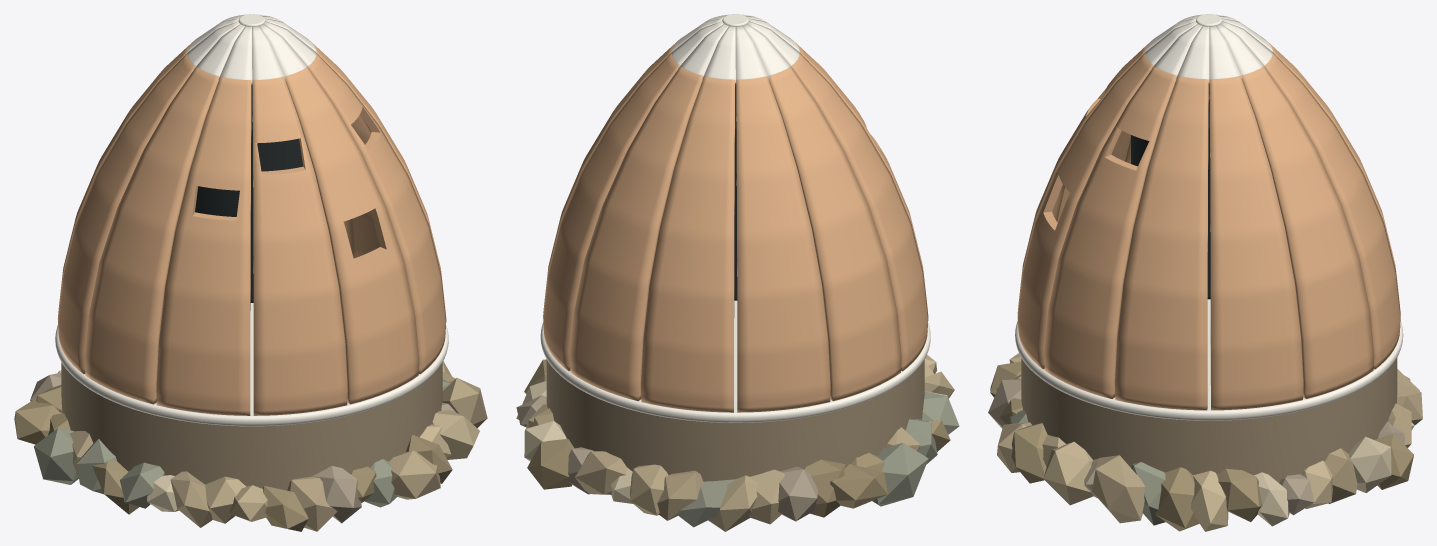
File: dome_building.glb
The picture shows the model from 3 angles, left to right: view 1: azimuth 30°, elevation 25°; view 2: azimuth 150°, elevation 25°; view 3: azimuth 270°, elevation 25°; orthographic projection.
Visible parts, largest first — view 1: Curved shell panel 07, Curved shell panel 08, Cylindrical stone plinth, Curved shell panel 06, Curved shell panel 09, Curved shell panel 05, Curved shell panel 10, White circular cornice, Shadowed inner structure, Foundation boulder 34, Foundation boulder 20, Foundation boulder 31 (+24 smaller); view 2: Curved shell panel 04, Curved shell panel 03, Cylindrical stone plinth, Curved shell panel 05, Curved shell panel 02, Curved shell panel 06, Curved shell panel 01, White circular cornice, Foundation boulder 20, Foundation boulder 18, Foundation boulder 07, Foundation boulder 16 (+22 smaller); view 3: Curved shell panel 00, Curved shell panel 11, Cylindrical stone plinth, Curved shell panel 01, Curved shell panel 10, Curved shell panel 02, Curved shell panel 09, White circular cornice, Foundation boulder 39, Foundation boulder 37, Foundation boulder 41, Foundation boulder 00 (+24 smaller).
Boxes of the visible parts, box(x1,y1,x2,y2) form: Curved shell panel 07: box(156, 76, 251, 415); Curved shell panel 08: box(252, 76, 347, 415); Cylindrical stone plinth: box(61, 362, 442, 490); Curved shell panel 06: box(84, 67, 218, 404); Curved shell panel 09: box(285, 66, 419, 404); Curved shell panel 05: box(58, 53, 195, 374); Curved shell panel 10: box(308, 53, 446, 374); White circular cornice: box(55, 303, 448, 426); Shadowed inner structure: box(195, 84, 303, 302); Foundation boulder 34: box(389, 450, 440, 499); Foundation boulder 20: box(34, 428, 78, 484); Foundation boulder 31: box(312, 466, 361, 523); Curved shell panel 04: box(736, 76, 830, 412); Curved shell panel 03: box(641, 76, 735, 412); Cylindrical stone plinth: box(546, 359, 924, 481); Curved shell panel 05: box(768, 66, 901, 401); Curved shell panel 02: box(569, 66, 702, 401); Curved shell panel 06: box(792, 53, 928, 371); Curved shell panel 01: box(543, 53, 679, 371); White circular cornice: box(540, 300, 930, 422); Foundation boulder 20: box(872, 442, 928, 506); Foundation boulder 18: box(830, 464, 887, 508); Foundation boulder 07: box(527, 438, 574, 489); Foundation boulder 16: box(778, 466, 817, 521); Curved shell panel 00: box(1209, 75, 1303, 410); Curved shell panel 11: box(1115, 76, 1208, 410); Cylindrical stone plinth: box(1021, 357, 1397, 482); Curved shell panel 01: box(1241, 66, 1374, 398); Curved shell panel 10: box(1044, 66, 1176, 398); Curved shell panel 02: box(1265, 53, 1400, 369); Curved shell panel 09: box(1017, 52, 1153, 369); White circular cornice: box(1015, 299, 1403, 420); Foundation boulder 39: box(1092, 455, 1145, 523); Foundation boulder 37: box(1043, 441, 1093, 505); Foundation boulder 41: box(1155, 467, 1199, 531); Foundation boulder 00: box(1191, 470, 1228, 531).
Bounding box in the file's own units: 3.8 × 3.96 × 3.61.
